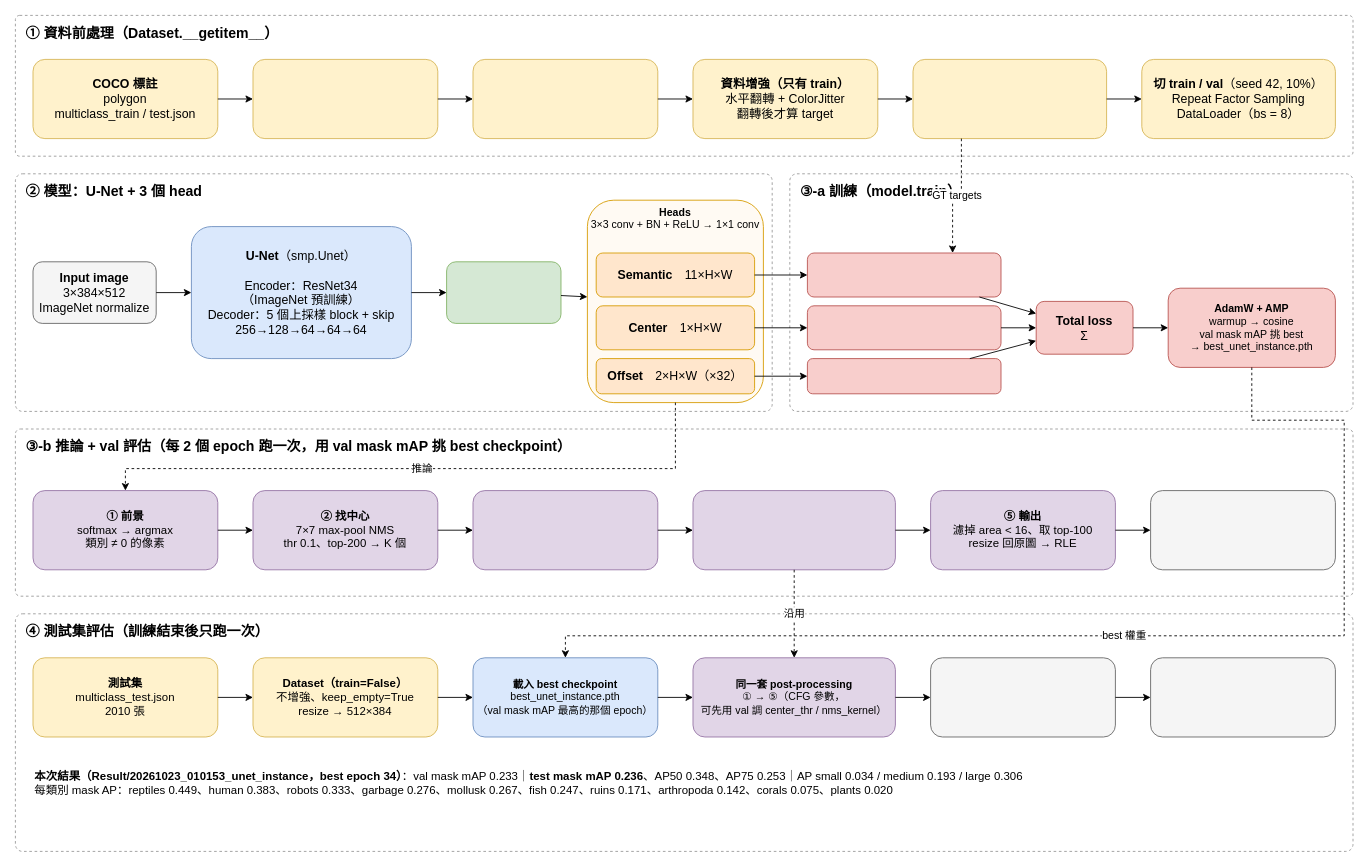
Some shapes in this 1368 by 867 pixel diagram are drawn without their labels. The centre of each missing label's shape, as x and y in pixels:
"Center loss MSE（×200）" goes at (904,327).
"COCO 評估（val） GT：multiclass_train.json val mask mAP → 挑 best" goes at (1242,530).
"COCOeval（test GT） mask AP / AP50 / AP75 small / medium / large、每類別 AP" goes at (1022,697).
"Decoder feature 64×384×512" goes at (503,292).
"Instance id map 0 = 背景，k = 第 k 個物件 （面積大的先畫）" goes at (345,99).
"make_targets semantic / center heatmap (σ=6) / offset / offset_weight" goes at (1009,99).
"Offset loss L1，只算物件像素（×0.01）" goes at (904,376).
"Resize → 512×384 image：bilinear id map：nearest" goes at (565,99).
"Semantic loss CE + Dice（×1）" goes at (904,274).
"③ 像素分組 位置 + offset → 最近的中心（cdist）" goes at (565,530).
"④ 類別 / 分數 類別 = semantic 多數決 score = center × 平均類別機率" goes at (793,530).
"存檔 Result/<run>/ history.json（含 test 指標） test_predictions.png" goes at (1242,697).
